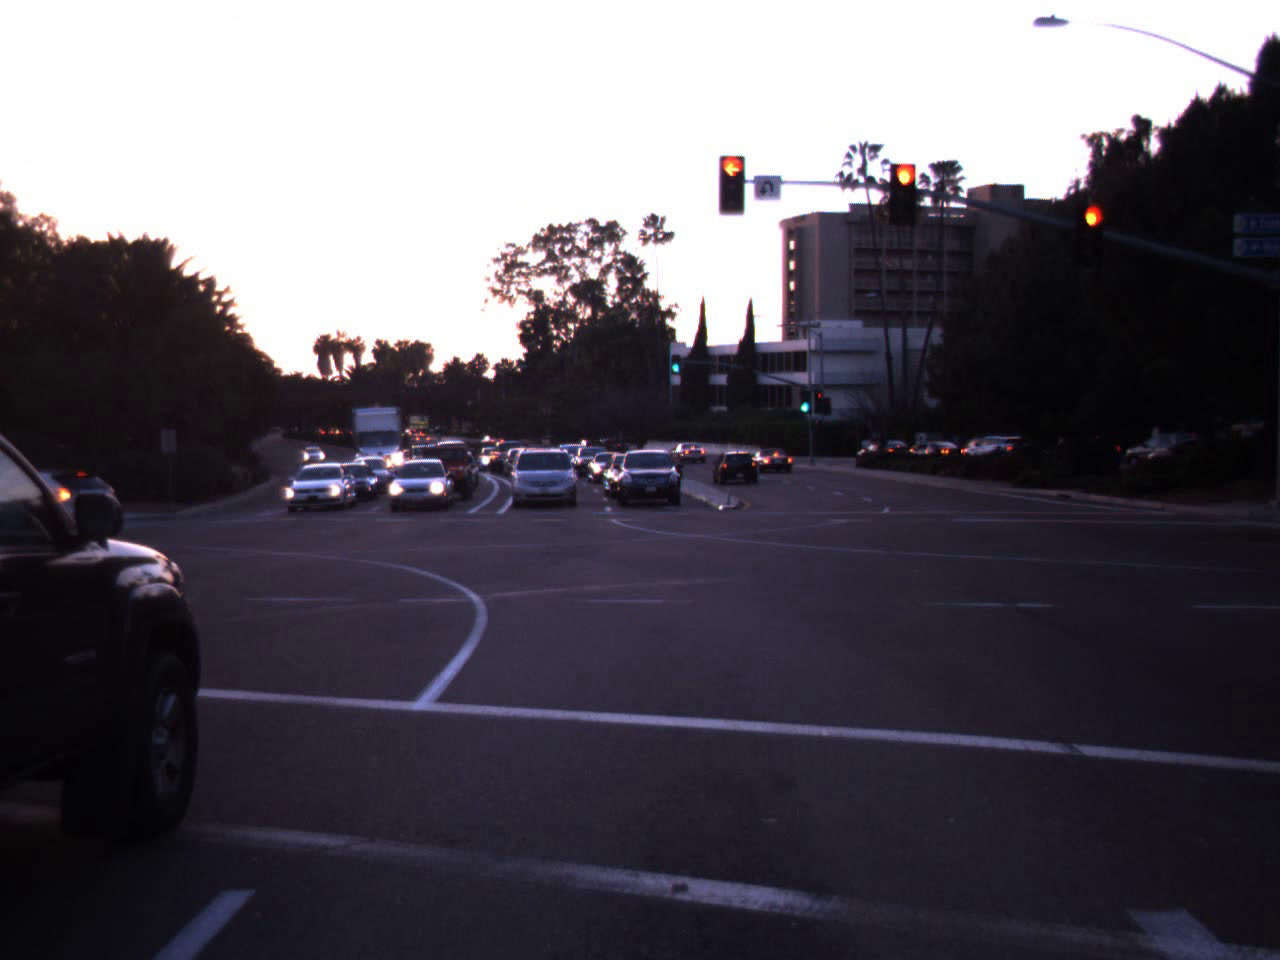go: (798, 379, 813, 414), (668, 347, 683, 372)
stop: (879, 153, 933, 247), (706, 149, 760, 212), (1072, 199, 1114, 275)
